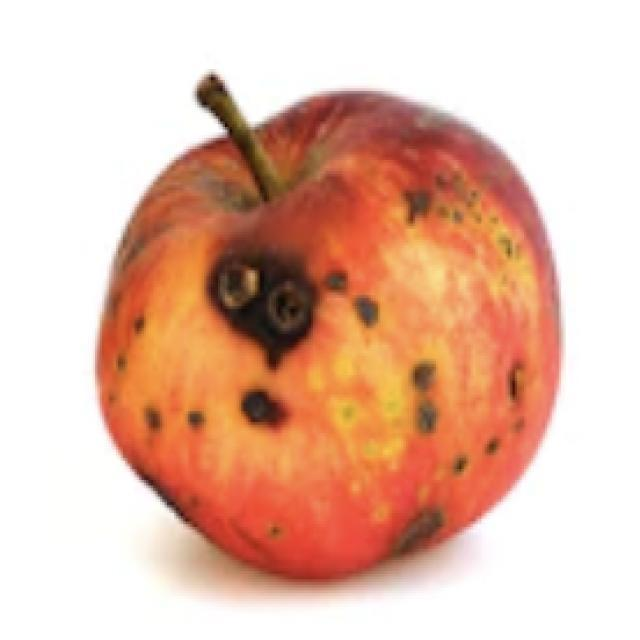Rotten: (93, 87, 567, 580)
